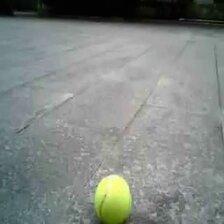tennis: (96, 175, 131, 223)
